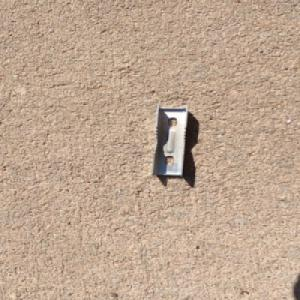ClampPart: (149, 104, 190, 178)
